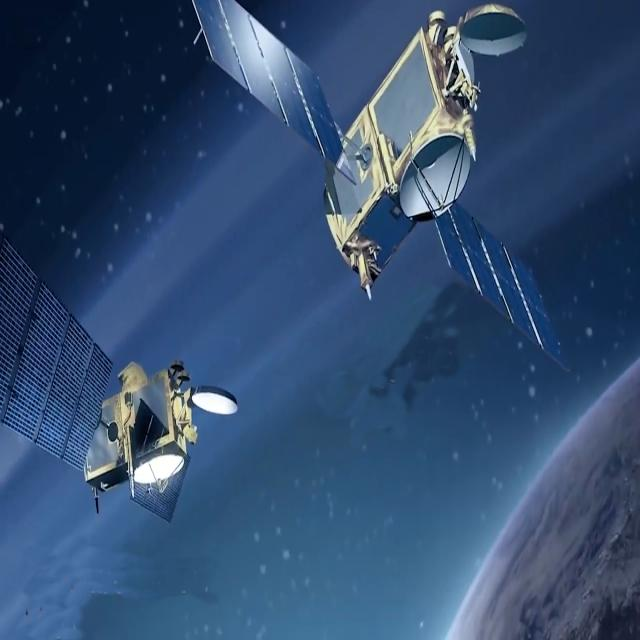satellite: (185, 0, 640, 364), (0, 202, 246, 571)
